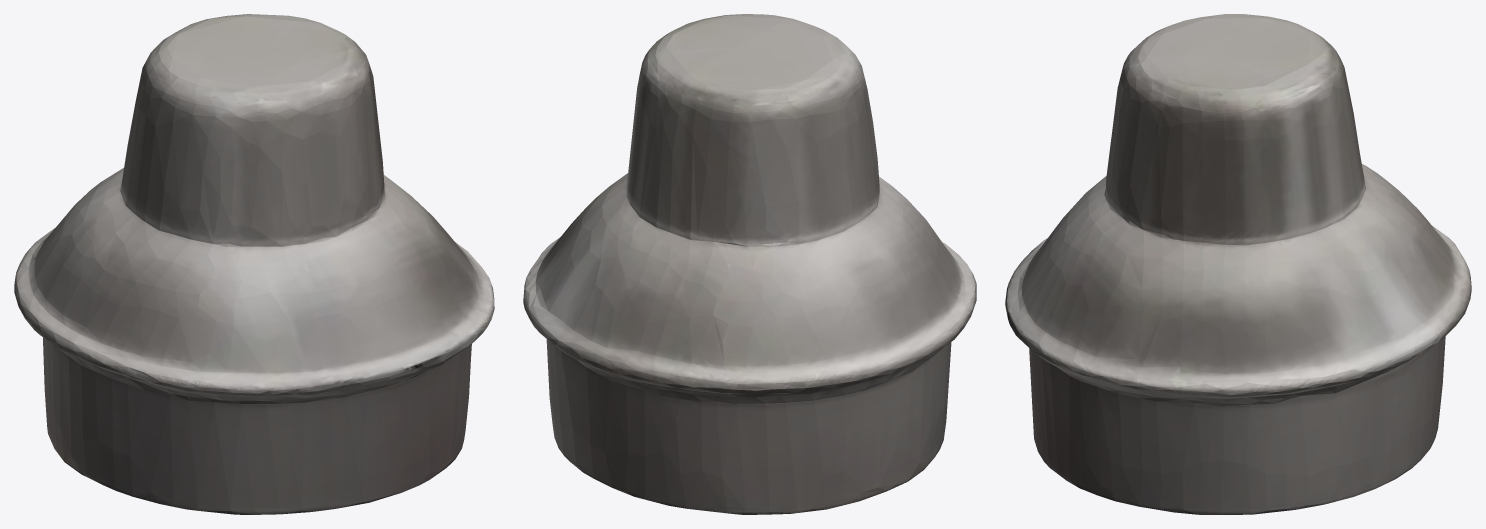
File: cocktail_shaker_cap.glb
3 renders of one model, left to right at view 1: azimuth 30°, elevation 25°; view 2: azimuth 150°, elevation 25°; view 3: azimuth 270°, elevation 25°, orthographic.
Parts seen in each view (by area): view 1: cocktail_shaker_cap; view 2: cocktail_shaker_cap; view 3: cocktail_shaker_cap.
Boxes of the visible parts, x1,y1,x2,y2 form: cocktail_shaker_cap: (14, 14, 494, 514); cocktail_shaker_cap: (523, 14, 976, 514); cocktail_shaker_cap: (1005, 14, 1471, 514).
Size of the model in its own units: 0.3481 by 0.3143 by 0.3498.
1 material, 1 textured.
